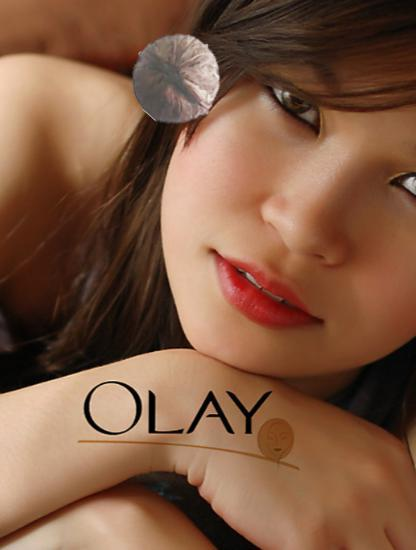Walnut: (131, 33, 224, 126)
